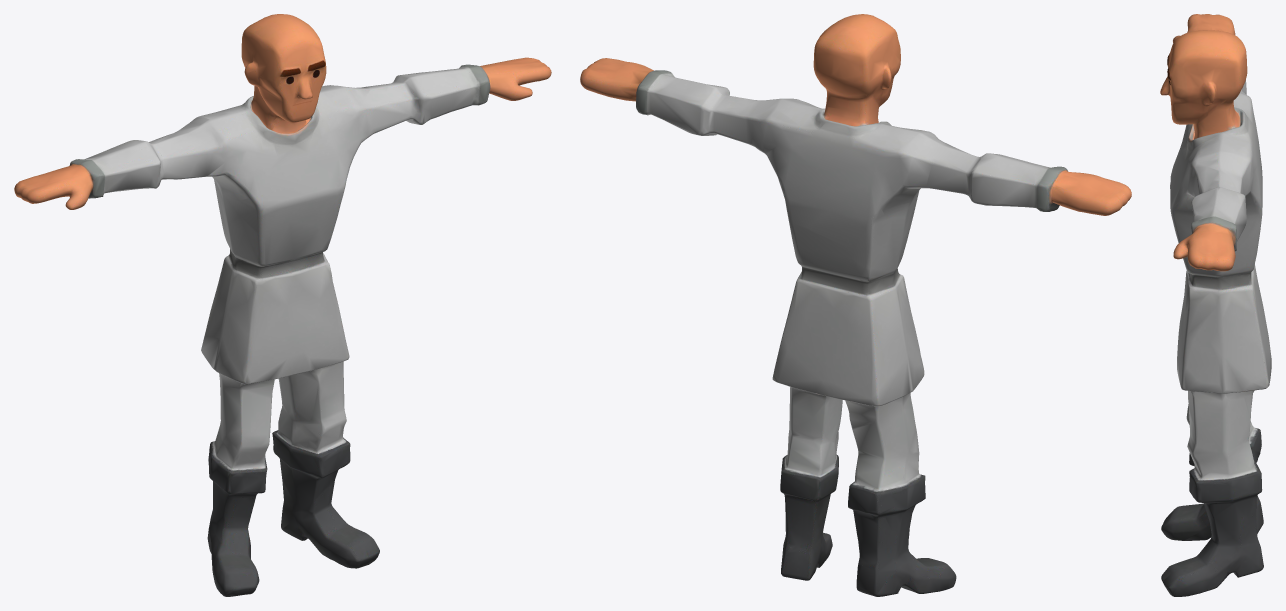
The model's file is body_male.glb.
3 renders of one model, left to right at view 1: azimuth 30°, elevation 25°; view 2: azimuth 150°, elevation 25°; view 3: azimuth 270°, elevation 25°, orthographic. The views are drawn at different scales.
Visible parts, largest first — view 1: tripo_node_0f830841-bd55-4b19-ab3f-24d68c325524; view 2: tripo_node_0f830841-bd55-4b19-ab3f-24d68c325524; view 3: tripo_node_0f830841-bd55-4b19-ab3f-24d68c325524.
Part boxes in pixels (box(x1,y1,x2,y2)): tripo_node_0f830841-bd55-4b19-ab3f-24d68c325524: box(14, 14, 551, 596); tripo_node_0f830841-bd55-4b19-ab3f-24d68c325524: box(580, 14, 1131, 596); tripo_node_0f830841-bd55-4b19-ab3f-24d68c325524: box(1160, 14, 1271, 596).
Bounding box in the file's own units: 0.9986 × 0.9937 × 0.1893.
Materials: 1 (1 with a texture image).
